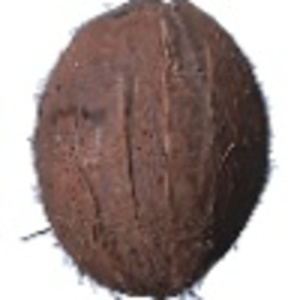coco: (24, 1, 276, 300)
